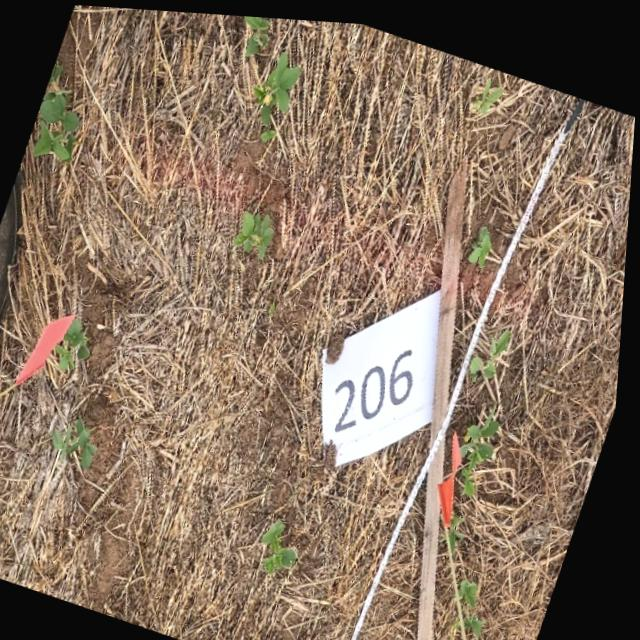soy_plant: (35, 59, 81, 159), (254, 48, 301, 122), (466, 400, 504, 488), (58, 416, 103, 466), (473, 322, 515, 374), (268, 515, 304, 569), (59, 317, 95, 370), (237, 208, 277, 255), (473, 71, 504, 107), (245, 13, 270, 52), (470, 220, 494, 260), (466, 572, 485, 601), (455, 510, 471, 544), (474, 607, 490, 630), (262, 125, 276, 138)
